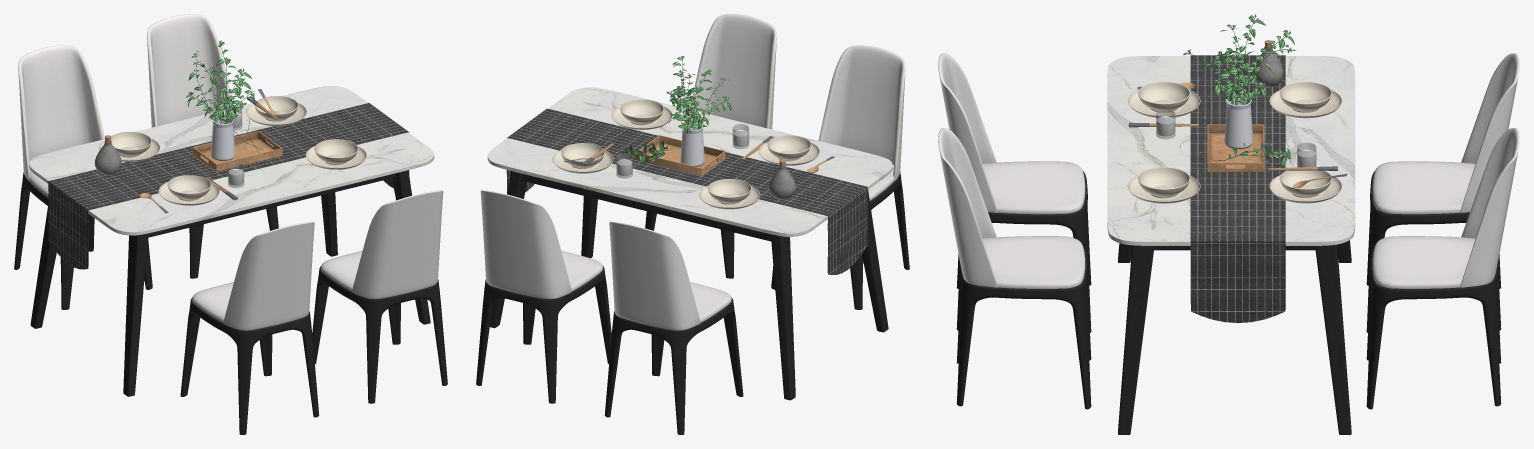
Rendered from simple_dining_table.glb.
The picture shows the model from 3 angles, left to right: view 1: azimuth 30°, elevation 25°; view 2: azimuth 150°, elevation 25°; view 3: azimuth 270°, elevation 25°; orthographic projection. The views are drawn at different scales.
Parts seen in each view (by area): view 1: zhuoyi_6, bu_8, qita_2, lvzhi_4; view 2: zhuoyi_6, bu_8, qita_2, lvzhi_4, Cylinder003_14; view 3: zhuoyi_6, bu_8, qita_2, lvzhi_4, Cylinder003_14.
Boxes of the visible parts, <box> form: zhuoyi_6: <box>14,14,447,434</box>; bu_8: <box>48,103,409,269</box>; qita_2: <box>94,46,366,213</box>; lvzhi_4: <box>186,40,254,138</box>; zhuoyi_6: <box>476,14,909,434</box>; bu_8: <box>506,108,867,274</box>; qita_2: <box>552,59,834,209</box>; lvzhi_4: <box>621,56,731,164</box>; Cylinder003_14: <box>732,124,749,149</box>; zhuoyi_6: <box>938,53,1519,434</box>; bu_8: <box>1190,55,1285,323</box>; qita_2: <box>1127,18,1347,203</box>; lvzhi_4: <box>1183,14,1295,166</box>; Cylinder003_14: <box>1156,109,1175,139</box>.
Size of the model in its own units: 1505 by 1246 by 1980.
6 materials, 6 textured.
